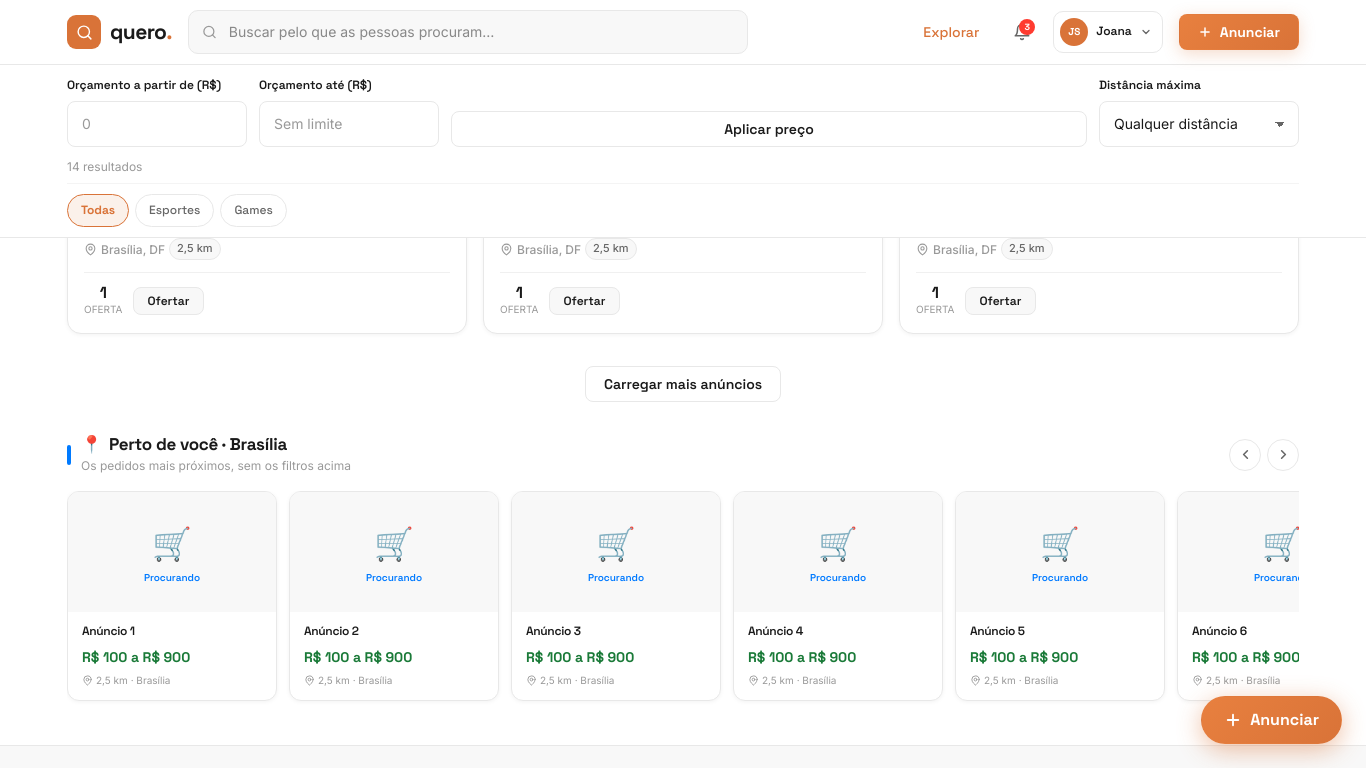
Test case: feed de anúncios (API) › carrega mais anúncios pelo cursor
This screenshot has width=1366, height=768.
(page scrolled)
Expected: the link "Anúncio 13" is not shown
What coordinates should you click on to do the following:
click the button "Carregar mais anúncios"
I would click on:
 (683, 384)
Its box is 585,366 -> 781,402.
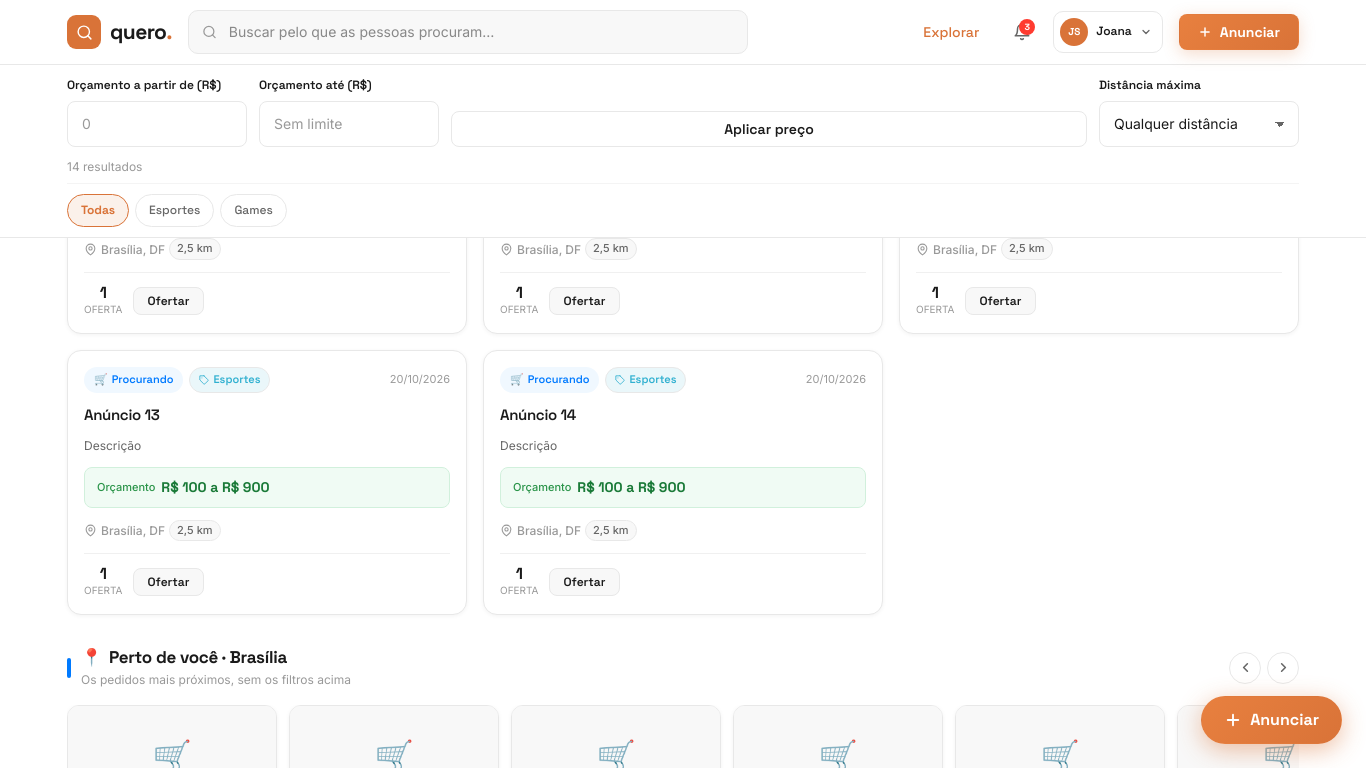
Now the link "Anúncio 13" is shown, box 84,405 -> 160,424
Now the button "Carregar mais anúncios" is gone
